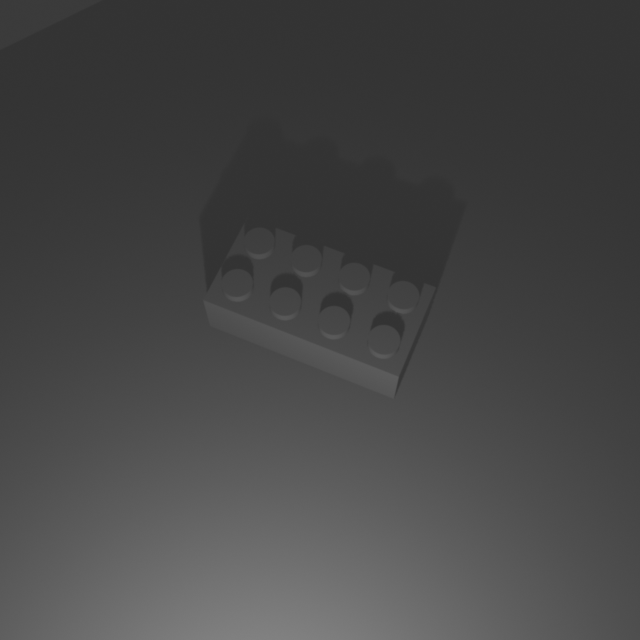lego_2x4: (202, 212, 437, 399)
